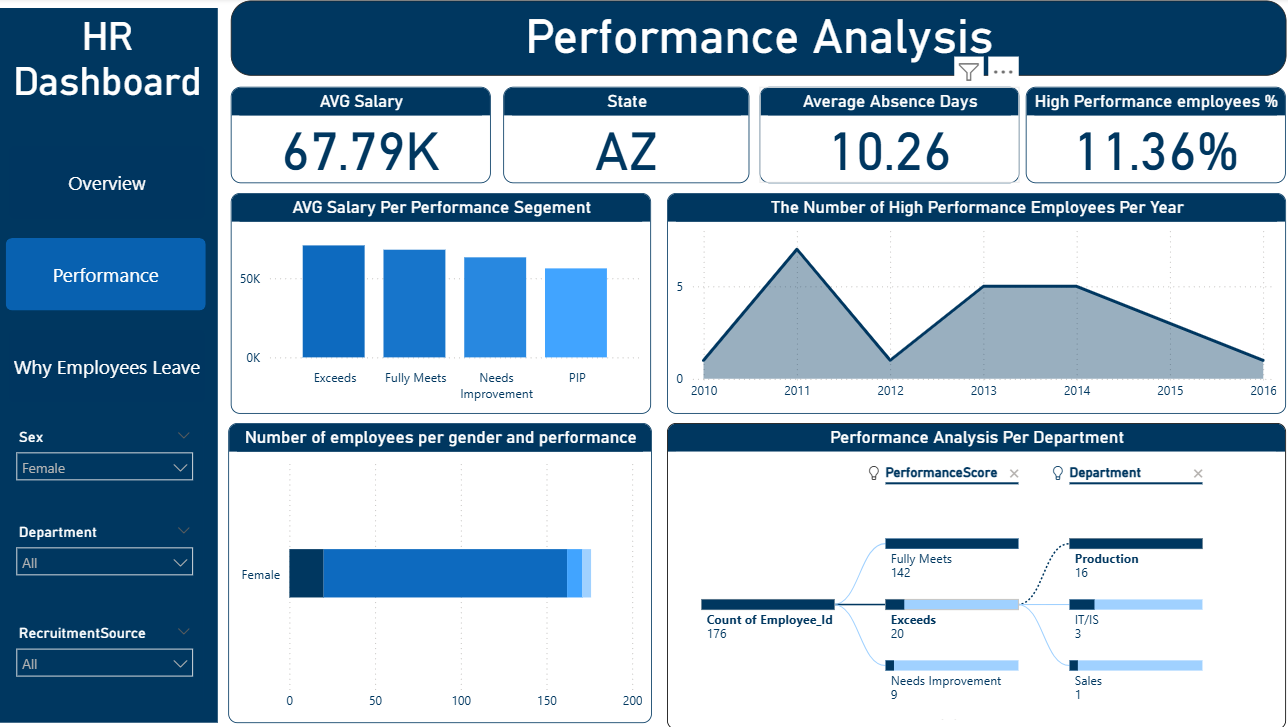

This screenshot's page, from the dashboard's own definition file:
{"tool":"powerbi","page":{"name":"Performance ","canvas":[1280,720],"ordinal":1},"visuals":[{"type":"textbox","box":[0,10.3,216,699.4],"z":0},{"type":"actionButton","box":[11,324.1,193.2,72.1],"z":1000},{"type":"actionButton","box":[11,144.3,193.2,72.1],"z":2000},{"type":"actionButton","box":[8.6,234.8,195.7,70.9],"z":3000},{"type":"textbox","title":"Performance Analysis","box":[229.2,2.9,1033,73.5],"z":4000},{"type":"stackedAreaChart","title":"The Number of High Performance Employees Per Year","fields":{"Y":["All_Measures.Fully Meets Count"],"Category":["EmployeeFacts.Hiring Year"]},"box":[655.3,191,605.4,216],"z":5000},{"type":"barChart","title":"Number of employees per gender and performance","fields":{"Category":["EmployeeDetails.Sex"],"Y":["CountNonNull(EmployeeDetails.Employee_Id)"],"Series":["EmployeeFacts.PerformanceScore"]},"box":[226.3,415.8,414.4,293.9],"z":6000},{"type":"decompositionTreeVisual","title":"Performance Analysis Per Department","fields":{"Analyze":["CountNonNull(EmployeeDetails.Employee_Id)"],"ExplainBy":["EmployeeFacts.PerformanceScore","Department.Department"]},"box":[655.3,415.8,605.4,299.8],"z":7000},{"type":"columnChart","title":"AVG Salary Per Performance Segement","fields":{"Category":["EmployeeFacts.PerformanceScore"],"Y":["All_Measures.Avg Salary"]},"box":[229.2,191,411.4,216],"z":8000},{"type":"card","title":"State","fields":{"Values":["Min(EmployeeDetails.State)"]},"box":[495.2,86.7,241,94],"z":9000},{"type":"card","title":"Average Absence Days","fields":{"Values":["Avg(EmployeeFacts.Absences)"]},"box":[746.4,86.7,254.2,94],"z":10000},{"type":"card","title":"High Performance employees  %","fields":{"Values":["All_Measures.High performance Percentage"]},"box":[1006.5,86.7,254.2,94],"z":11000},{"type":"card","title":"AVG Salary","fields":{"Values":["All_Measures.Avg Salary"]},"box":[229.2,86.7,254.2,94],"z":12000},{"type":"slicer","title":"Gender","fields":{"Values":["EmployeeDetails.Sex"]},"box":[8.6,415.8,193.2,79.5],"z":13000},{"type":"slicer","title":"Recruitment Source","fields":{"Values":["EmployeeDetails.RecruitmentSource"]},"box":[8.6,607.7,193.2,79.5],"z":14000},{"type":"slicer","title":"Department","fields":{"Values":["Department.Department"]},"box":[8.6,508.7,193.2,86.8],"z":15000}]}

Visuals, with their boxes in screenshot pixels (x1, y1, x2, y2), scaled from the page's 1280x720 canvas onto the 1288x727 screenshot:
textbox: 0:10:217:717
actionButton: 11:327:205:400
actionButton: 11:146:205:219
actionButton: 9:237:206:309
"Performance Analysis" textbox: 231:3:1270:77
"The Number of High Performance Employees Per Year" stackedAreaChart: 659:193:1269:411
"Number of employees per gender and performance" barChart: 228:420:645:717
"Performance Analysis Per Department" decompositionTreeVisual: 659:420:1269:723
"AVG Salary Per Performance Segement" columnChart: 231:193:645:411
"State" card: 498:88:741:182
"Average Absence Days" card: 751:88:1007:182
"High Performance employees  %" card: 1013:88:1269:182
"AVG Salary" card: 231:88:486:182
"Gender" slicer: 9:420:203:500
"Recruitment Source" slicer: 9:614:203:694
"Department" slicer: 9:514:203:601
